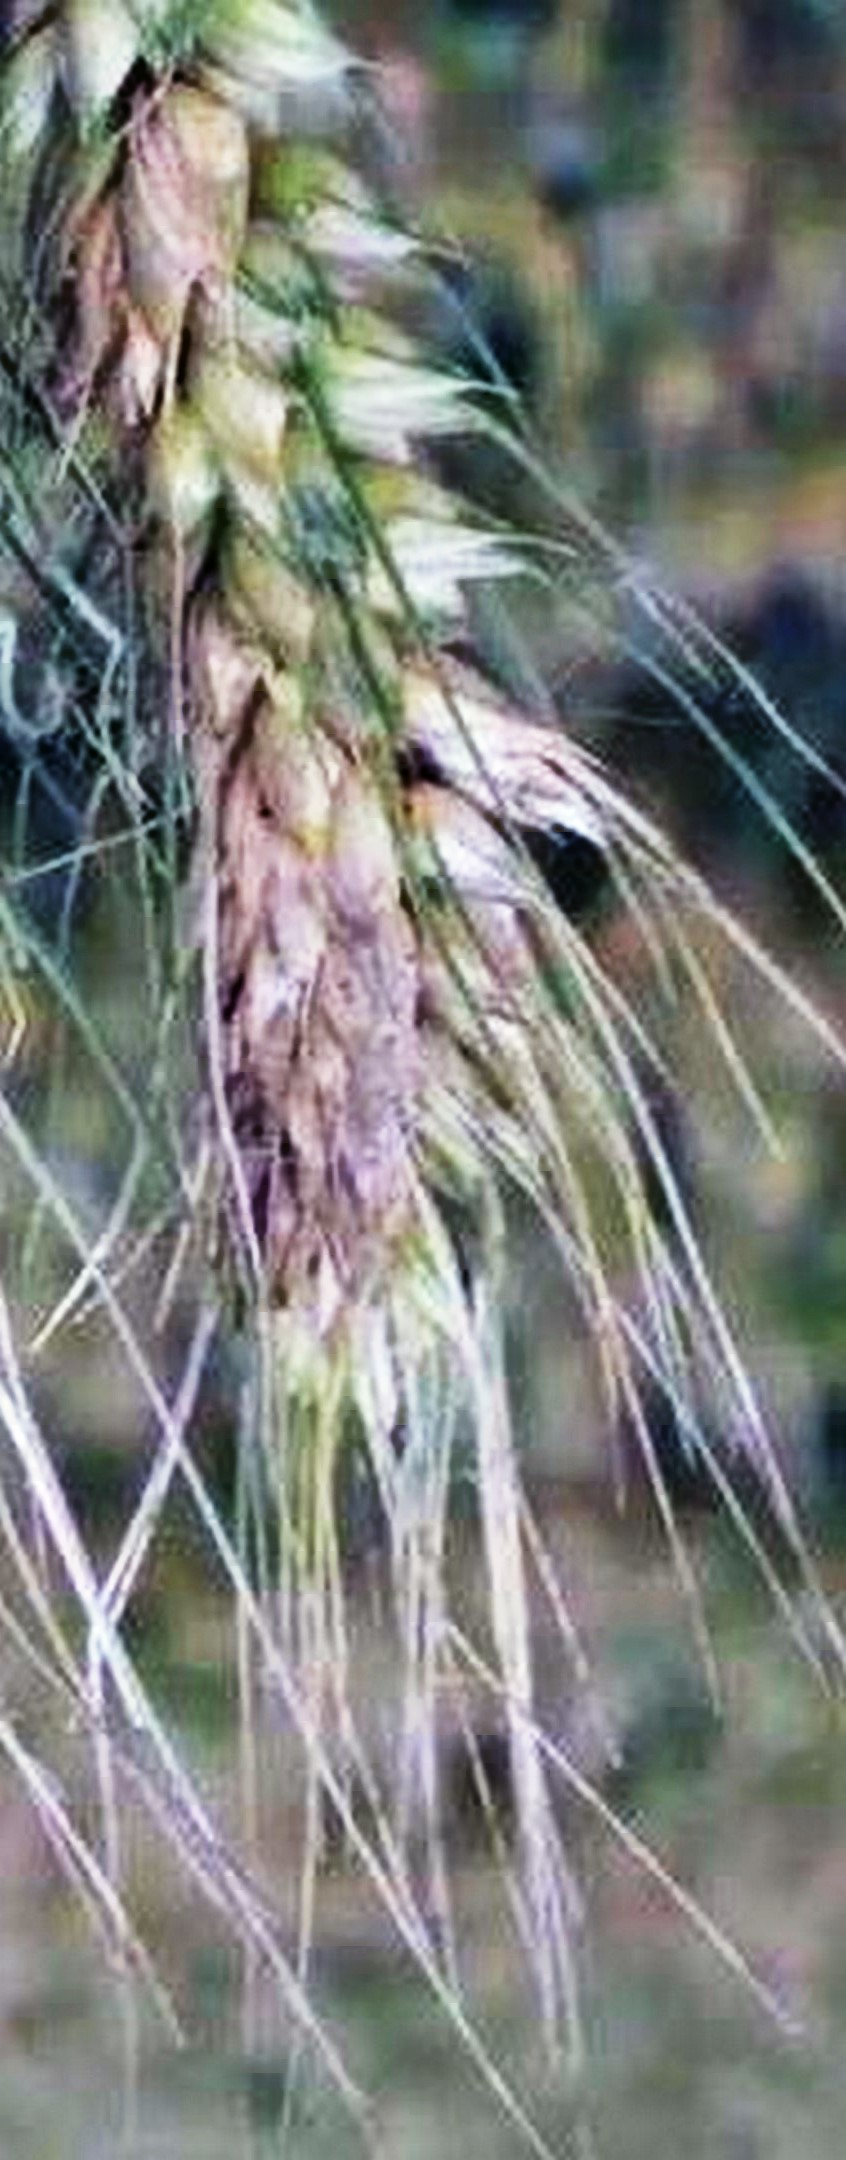Wheat scab: (56, 50, 568, 1496)
